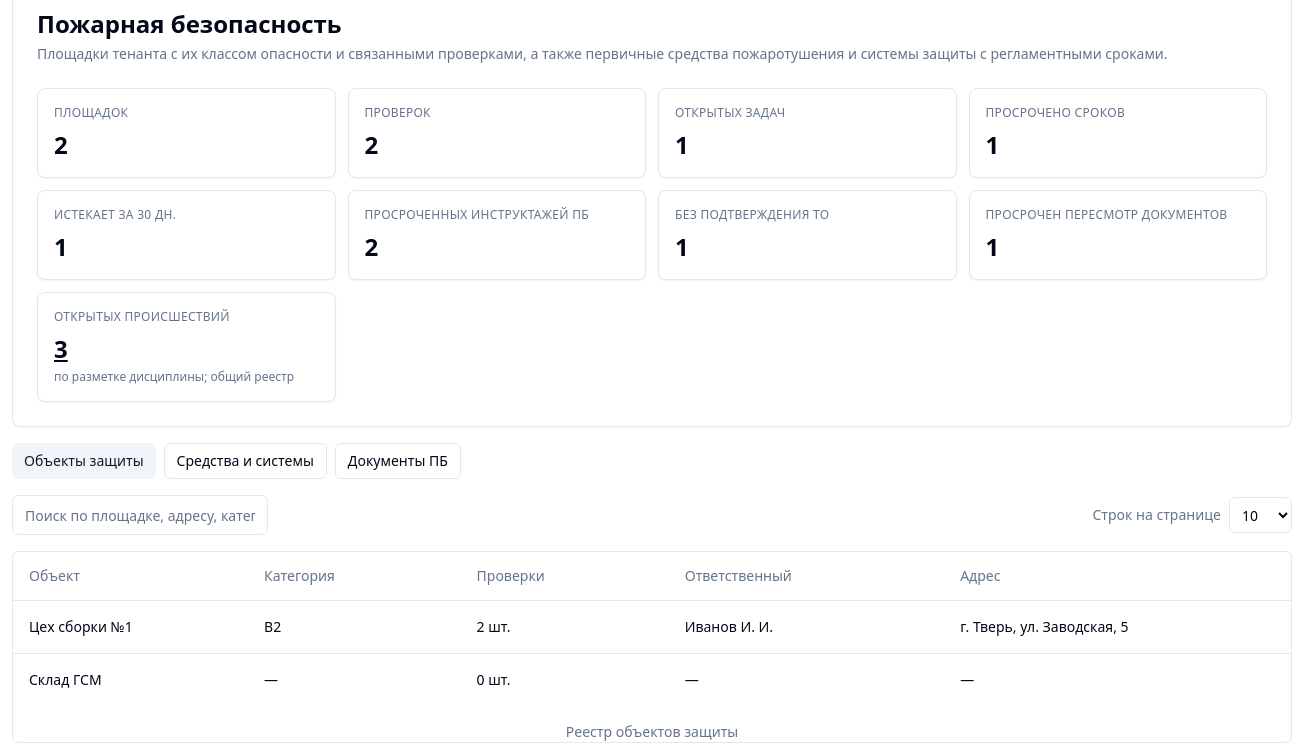
Test: FireSafetyPage › реестр документов ПБ открывается третьей секцией
Check: the text "Цех сборки №1" is shown, box [13,600,248,653]
Click the button "Документы ПБ".
click(398, 461)  # box [335,443,461,479]
(page scrolled)
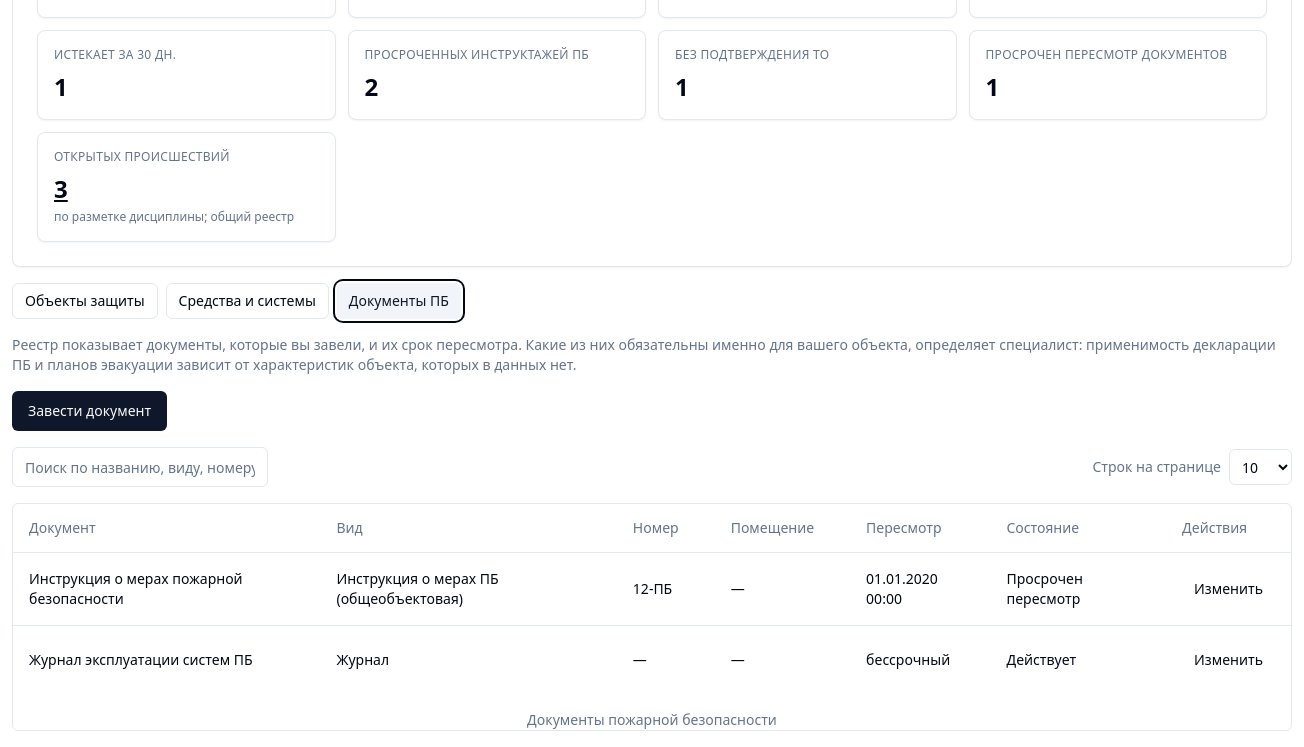
Check: the text "Инструкция о мерах пожарной безопасности" is shown, box [13,552,320,625]
Check: the text "Инструкция о мерах ПБ (общеобъектовая)" is shown, box [320,552,617,625]
Check: the text "Просрочен пересмотр" is shown, box [990,552,1166,625]
